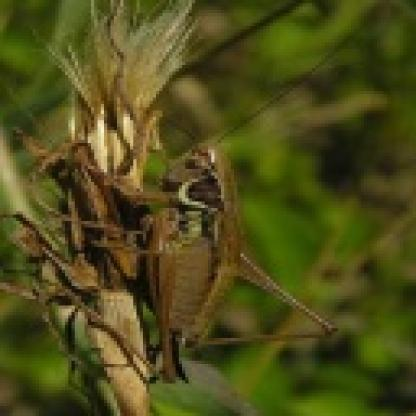grasshopper: (94, 98, 337, 394)
